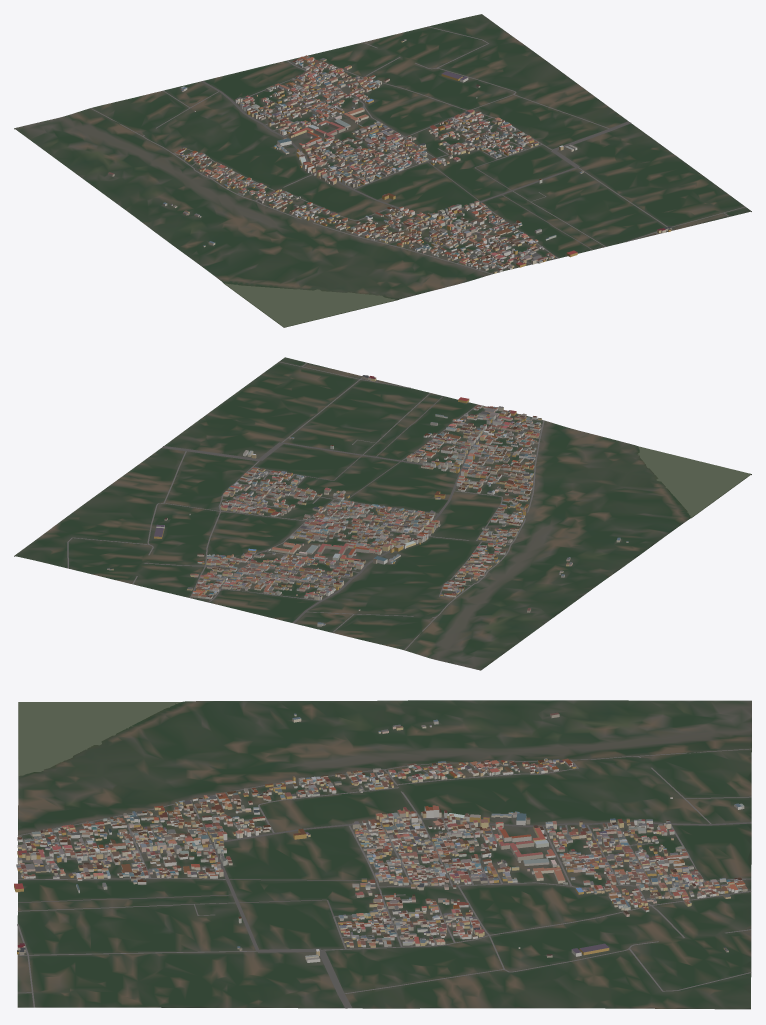
The picture shows the model from 3 angles, top to bottom: view 1: azimuth 30°, elevation 25°; view 2: azimuth 150°, elevation 25°; view 3: azimuth 270°, elevation 25°; orthographic projection. The views are drawn at different scales.
Visible parts, largest first — view 1: ground, buildings, roads, water; view 2: ground, buildings, roads, water; view 3: ground, buildings, roads, water.
Boxes of the visible parts, left/top/right/bottom form: ground: left=14, top=14, right=751, bottom=327; buildings: left=108, top=39, right=671, bottom=273; roads: left=90, top=26, right=745, bottom=274; water: left=224, top=283, right=395, bottom=327; ground: left=14, top=357, right=751, bottom=670; buildings: left=107, top=375, right=628, bottom=626; roads: left=67, top=361, right=544, bottom=650; water: left=637, top=446, right=750, bottom=517; ground: left=17, top=700, right=751, bottom=1009; buildings: left=14, top=712, right=747, bottom=962; roads: left=17, top=748, right=751, bottom=1008; water: left=18, top=702, right=180, bottom=775.
Bounding box in the file's own units: 1401 × 27.21 × 1410.
